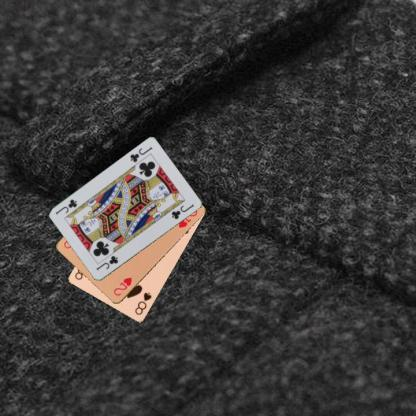2h: (111, 275, 133, 298)
8s: (132, 290, 153, 317)
Jc: (127, 145, 154, 164), (93, 253, 119, 272)
